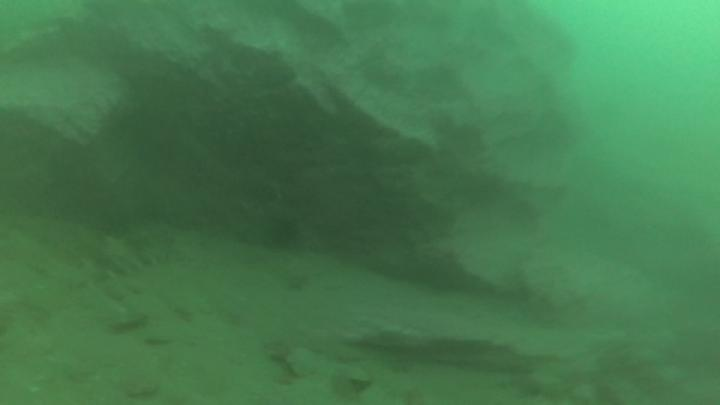holothurian: (52, 222, 181, 293)
